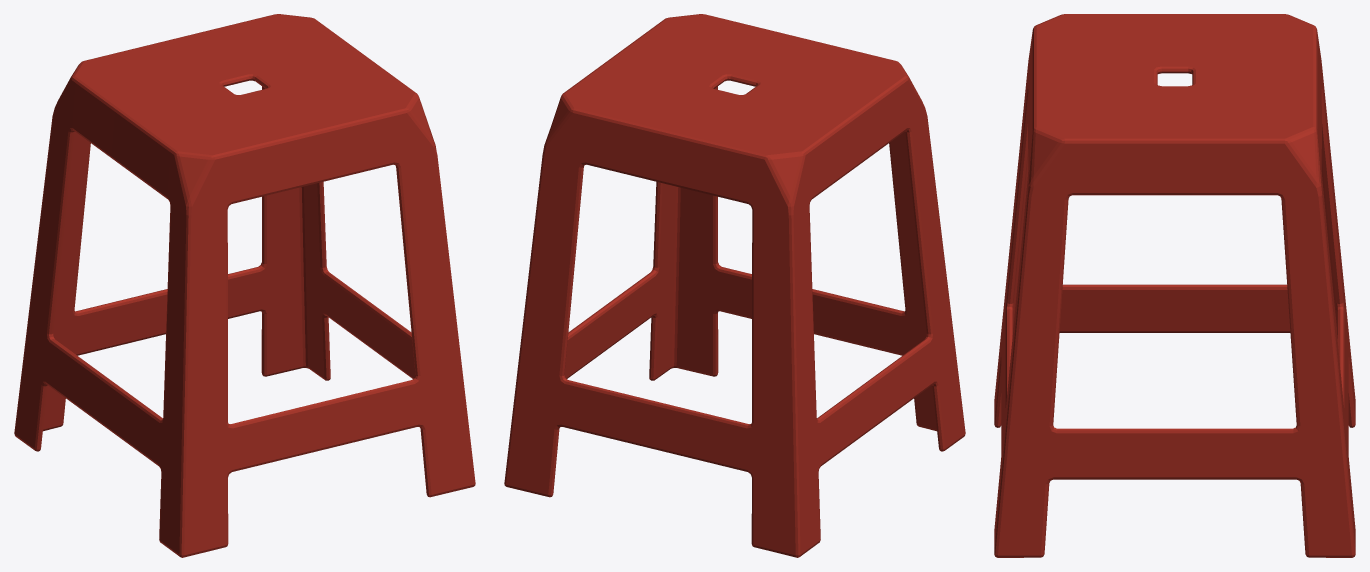
File: model-red-chair.glb
The picture shows the model from 3 angles, left to right: view 1: azimuth 30°, elevation 25°; view 2: azimuth 150°, elevation 25°; view 3: azimuth 270°, elevation 25°; orthographic projection. The views are drawn at different scales.
Visible parts, largest first — view 1: red-chair; view 2: red-chair; view 3: red-chair.
Boxes of the visible parts, x1,y1,x2,y2 form: red-chair: (14, 14, 475, 557); red-chair: (504, 14, 965, 557); red-chair: (994, 14, 1355, 557).
Bounding box in the file's own units: 0.4913 × 0.5989 × 0.4841.
